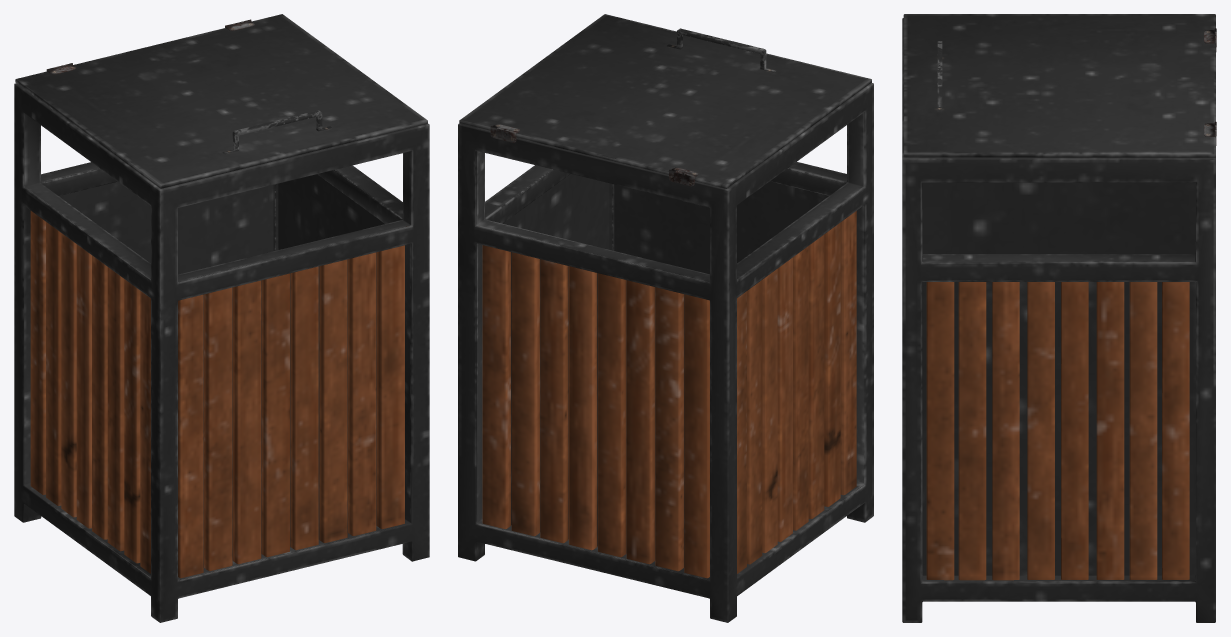
File: bin.glb
3 views of the same model, side by side, from view 1: azimuth 30°, elevation 25°; view 2: azimuth 150°, elevation 25°; view 3: azimuth 270°, elevation 25° (orthographic). The views are drawn at different scales.
Visible parts, largest first — view 1: bin; view 2: bin; view 3: bin.
Part boxes in pixels (x1,y1,x2,y2): bin: (14, 14, 429, 622); bin: (458, 14, 873, 622); bin: (902, 14, 1216, 622).
Size of the model in its own units: 0.6503 by 1.05 by 0.6106.
4 materials, 4 textured.
